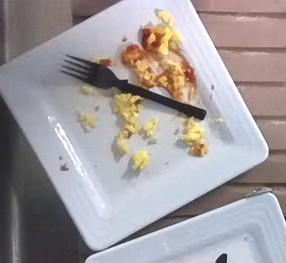scrambled_eggs: (122, 10, 197, 103), (114, 92, 140, 153)
